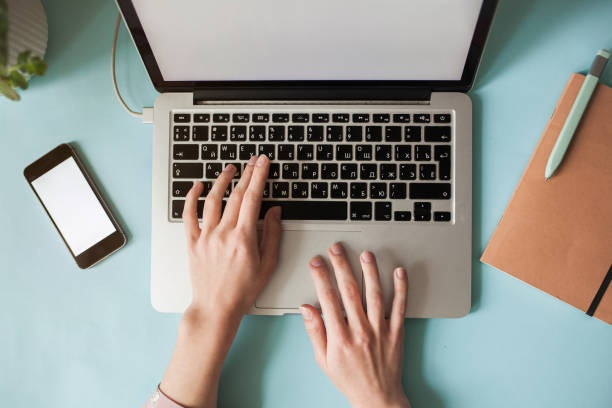keyboard: (167, 110, 456, 226)
laptop: (114, 1, 498, 320)
phone: (22, 142, 128, 270)
